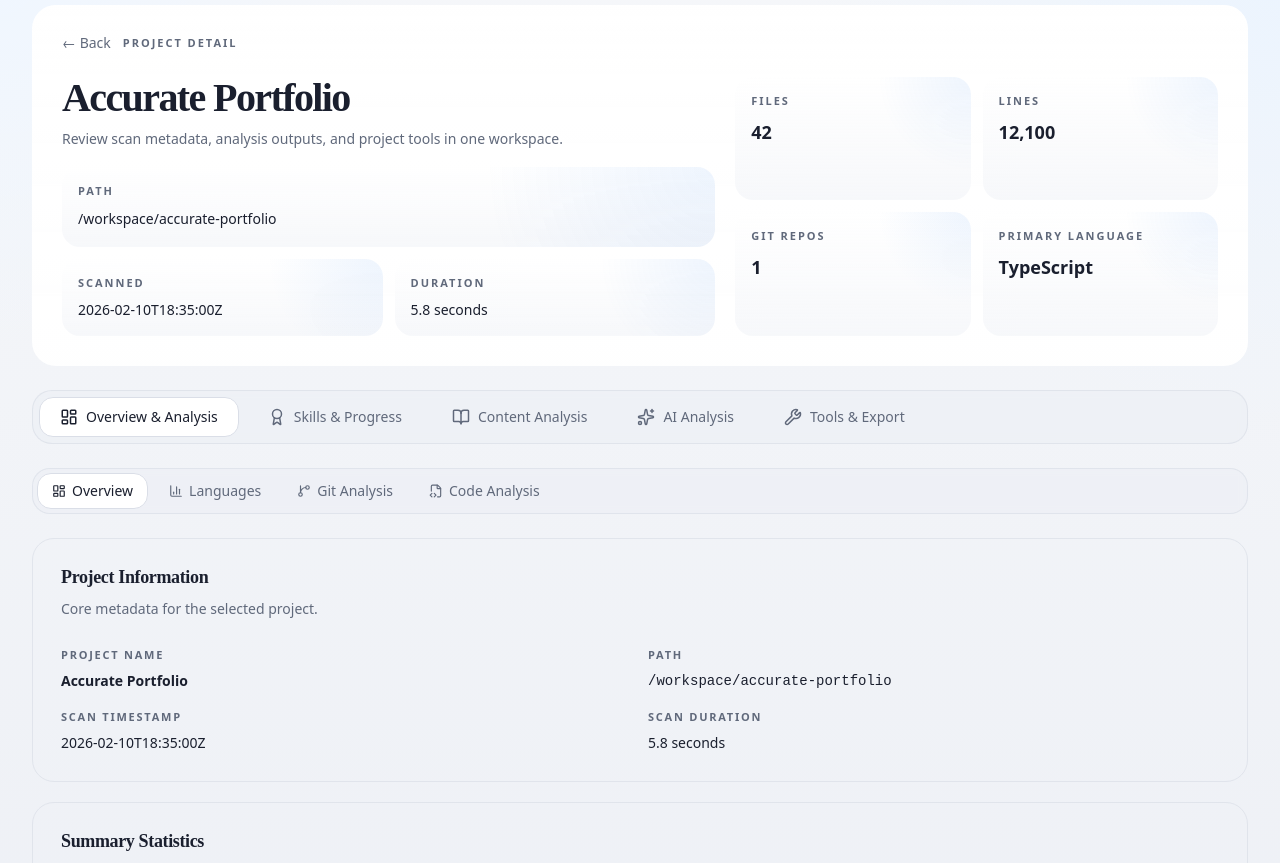
Test: Project page data accuracy › blocks AI analysis when external consent is disabled
Check: the heading "Accurate Portfolio" is shown, box [62,75,350,120]
Click the button "AI Analysis" at (686, 417), box [616,397,755,437]
(page scrolled)
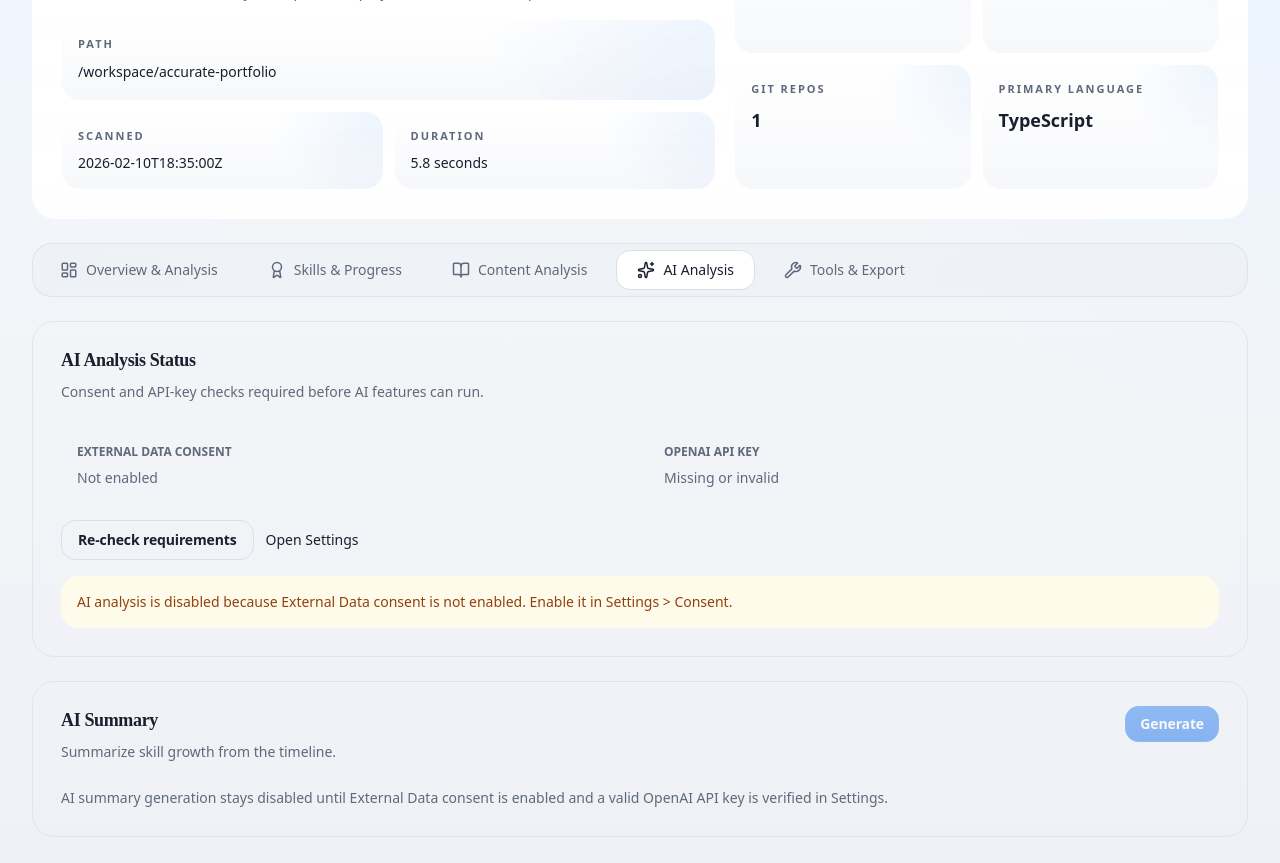
Check: the text "External Data consent is not enabled" is shown, box [77,592,732,611]
Check: the button "Generate" is disabled, box [1125,706,1219,742]
